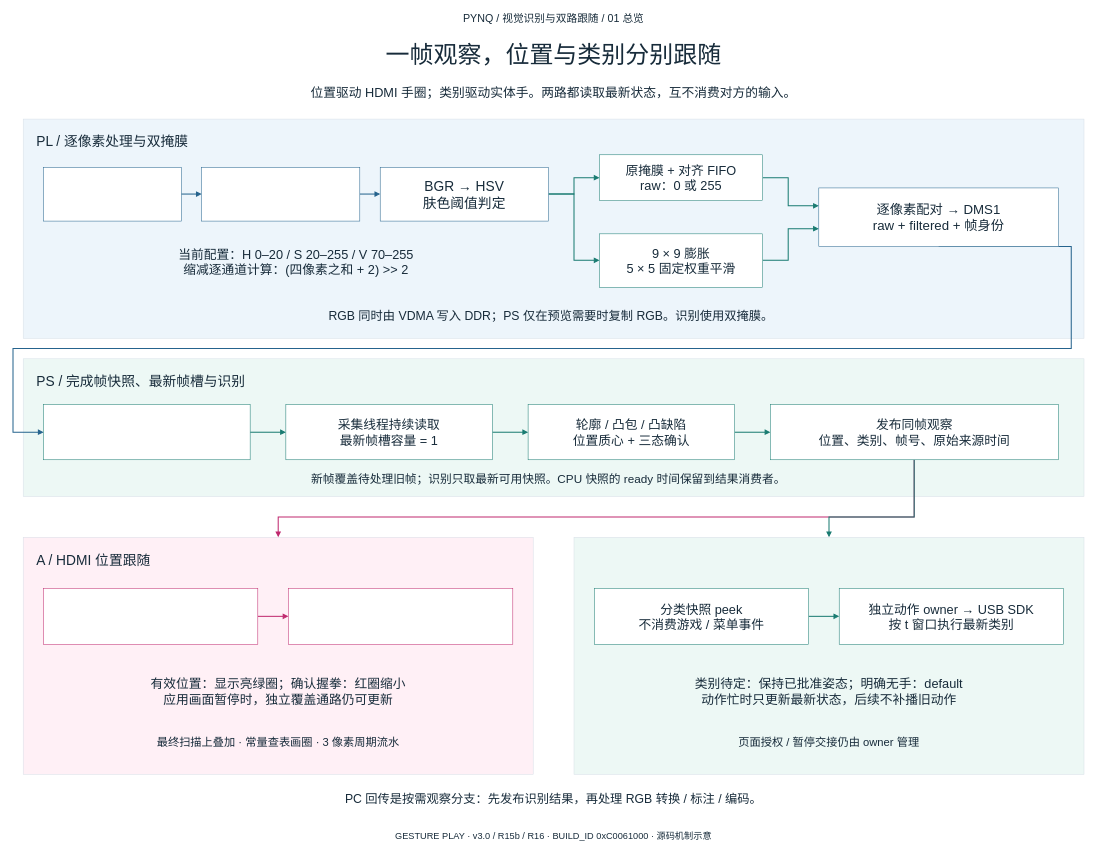
This 1093x853 diagram has some shape labels left out. Each missing label, with the box of its shape:
2 × 2 区域缩减 640 × 360: (201, 167, 360, 221)
B / 灵巧手类别跟随: (573, 537, 1084, 774)
DMA 完成 / DMS1 校验 复制完成后释放 DMA token: (43, 404, 250, 460)
ObservationHub 最新快照 位置有效性与分类分离: (43, 588, 258, 644)
OV5640 / DVP 1280 × 720: (43, 167, 181, 221)
独立 OSD 线程 → MMIO PL 在帧边界切换覆盖参数: (288, 588, 513, 644)
